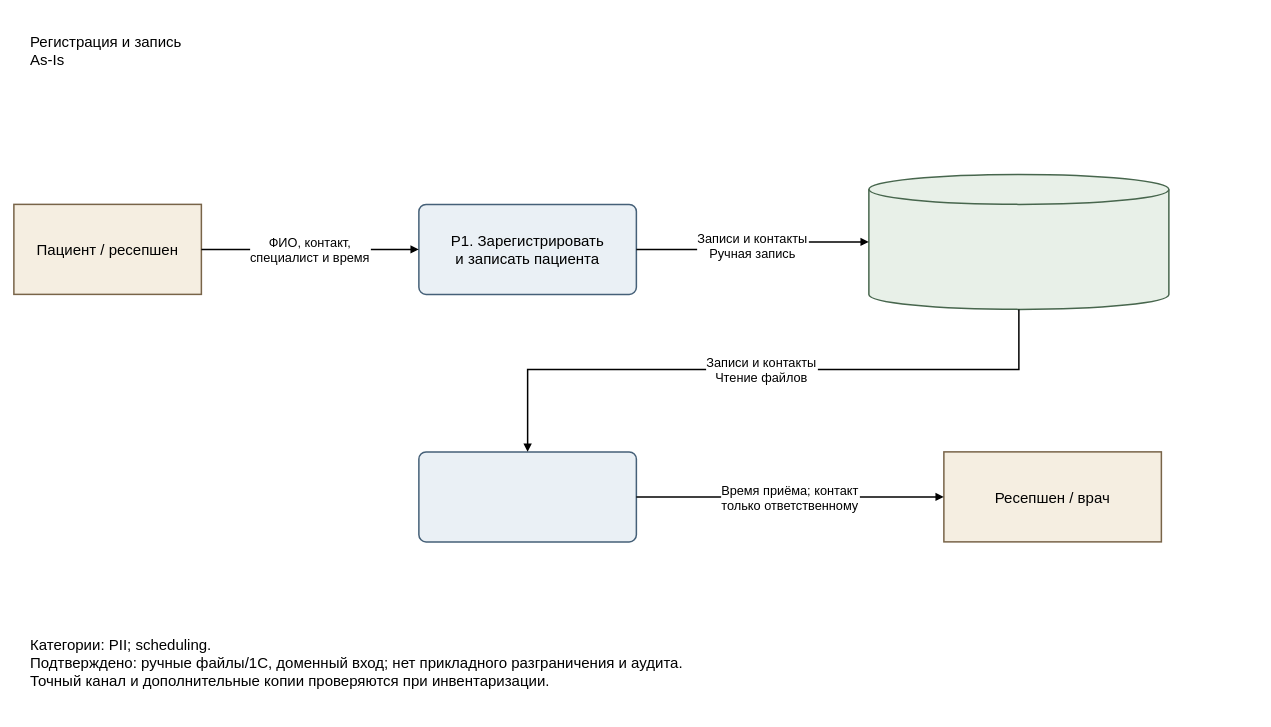
This 1271x727 diagram has some shape labels left out. Each missing label, with the centre of its shape:
D1. Excel записей и договоры на общем диске: point 1018,241
P2. Передать расписание: point 527,496
